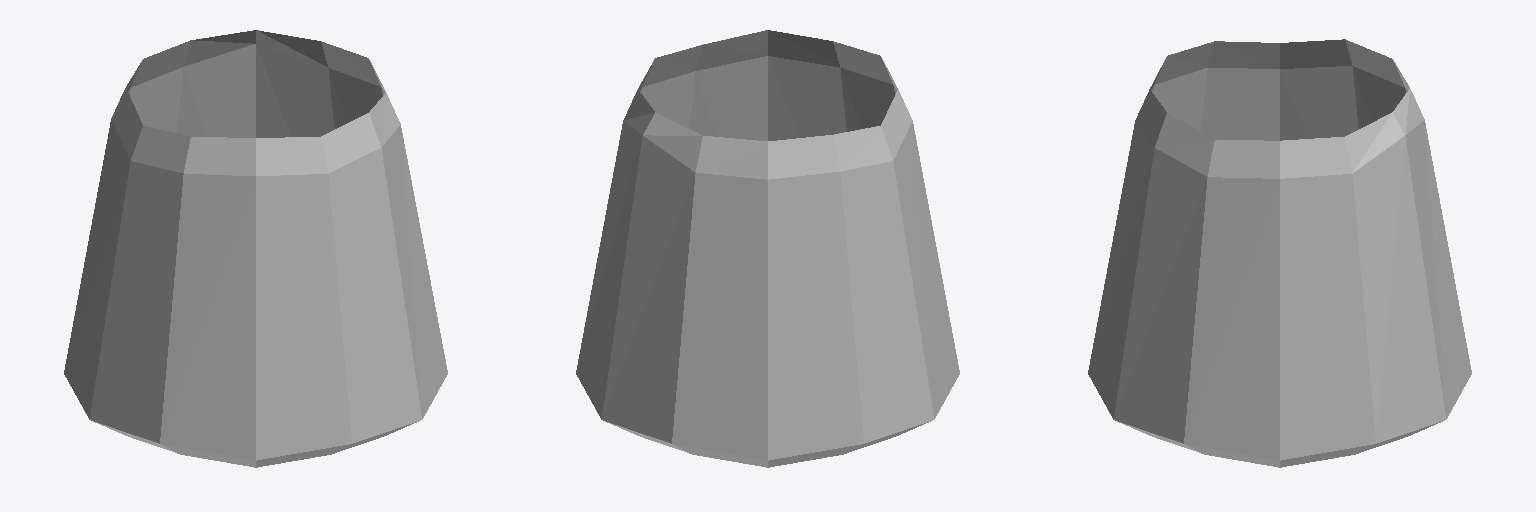
File: stone_pillar_fat_side.obj
The picture shows the model from 3 angles: view 1: azimuth 30°, elevation 25°; view 2: azimuth 150°, elevation 25°; view 3: azimuth 270°, elevation 25°; orthographic projection.
Parts seen in each view (by area): view 1: Cylinder; view 2: Cylinder; view 3: Cylinder.
Part boxes in pixels (left/top/right/bottom): Cylinder: left=64, top=30, right=447, bottom=467; Cylinder: left=576, top=30, right=959, bottom=467; Cylinder: left=1088, top=39, right=1471, bottom=467.
Size of the model in its own units: 7.39 by 7.33 by 7.39.